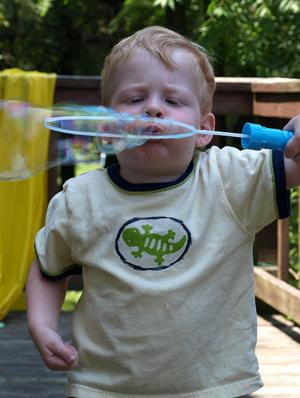person: (25, 28, 300, 396)
